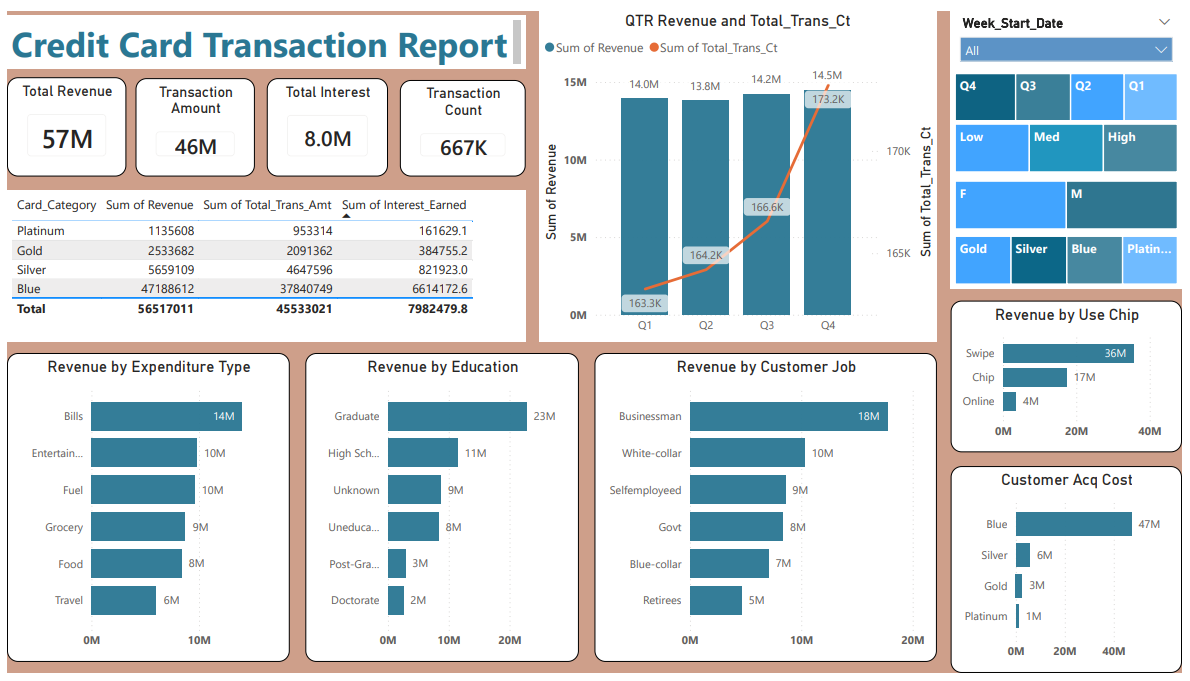

The dashboard page shown, as its layout file describes it:
{"tool":"powerbi","page":{"name":"Credit_Card_Transaction_Report","canvas":[1280,720],"ordinal":0},"visuals":[{"type":"textbox","box":[0,5,565,58.3],"z":0},{"type":"lineStackedColumnComboChart","title":"QTR Revenue and Total_Trans_Ct","fields":{"Category":["ccdb cc_detail.Qtr"],"Y":["Sum(ccdb cc_detail.Revenue)"],"Y2":["Sum(ccdb cc_detail.Total_Trans_Ct)"]},"box":[580,0,433.3,360],"z":1000},{"type":"barChart","title":"Revenue by Expenditure Type","fields":{"Y":["Sum(ccdb cc_detail.Revenue)"],"Category":["ccdb cc_detail.Exp_Type"]},"box":[0,371.7,308.3,336.7],"z":2000},{"type":"barChart","title":"Revenue by Education","fields":{"Y":["Sum(ccdb cc_detail.Revenue)"],"Category":["ccdb cust_detail.Education_Level"]},"box":[325,371.7,298.3,336.7],"z":3000},{"type":"barChart","title":"Revenue by Customer Job","fields":{"Y":["Sum(ccdb cc_detail.Revenue)"],"Category":["ccdb cust_detail.Customer_Job"]},"box":[640,371.7,373.3,336.7],"z":4000},{"type":"barChart","title":"Customer Acq Cost","fields":{"Y":["Sum(ccdb cc_detail.Revenue)"],"Category":["ccdb cc_detail.Card_Category"]},"box":[1028.3,495,251.7,225],"z":5000},{"type":"barChart","title":"Revenue by Use Chip","fields":{"Y":["Sum(ccdb cc_detail.Revenue)"],"Category":["ccdb cc_detail.Use_Chip"]},"box":[1028.3,315,251.7,165],"z":6000},{"type":"tableEx","fields":{"Values":["ccdb cc_detail.Card_Category","Sum(ccdb cc_detail.Revenue)","Sum(ccdb cc_detail.Total_Trans_Amt)","Sum(ccdb cc_detail.Interest_Earned)"]},"box":[0,195,565,165],"z":7000},{"type":"cardVisual","title":"Total Revenue","fields":{"Data":["Sum(ccdb cc_detail.Revenue)"]},"box":[0,71.7,130,108.3],"z":8000},{"type":"cardVisual","title":"Transaction Amount","fields":{"Data":["Sum(ccdb cc_detail.Total_Trans_Amt)"]},"box":[140,73.3,130,106.7],"z":9000},{"type":"cardVisual","title":"Total Interest","fields":{"Data":["Sum(ccdb cc_detail.Interest_Earned)"]},"box":[283.3,73.3,131.7,106.7],"z":10000},{"type":"cardVisual","title":"Transaction Count","fields":{"Data":["Sum(ccdb cc_detail.Total_Trans_Ct)"]},"box":[428.3,75,136.7,105],"z":11000},{"type":"slicer","fields":{"Values":["ccdb cc_detail.Week_Start_Date"]},"box":[1028.3,0,251.7,68.3],"z":12000},{"type":"treemap","fields":{"Group":["ccdb cc_detail.Qtr"],"Values":["Avg(ccdb cc_detail.Client_Num)"]},"box":[1028.3,63.3,251.7,61.7],"z":13000},{"type":"treemap","fields":{"Values":["Avg(ccdb cc_detail.Client_Num)"],"Group":["ccdb cust_detail.Gender"]},"box":[1028.3,180,251.7,61.7],"z":14000},{"type":"treemap","fields":{"Values":["Avg(ccdb cc_detail.Client_Num)"],"Group":["ccdb cust_detail.IncomeGroup"]},"box":[1028.3,118.3,251.7,61.7],"z":15000},{"type":"treemap","fields":{"Group":["ccdb cc_detail.Card_Category"],"Values":["Avg(ccdb cc_detail.Client_Num)"]},"box":[1028.3,240,251.7,61.7],"z":16000}]}

Visuals, with their boxes in screenshot pixels (x1, y1, x2, y2), scaled from the page's 1280x720 canvas onto the 1190x681 screenshot:
textbox: [0,5,525,60]
"QTR Revenue and Total_Trans_Ct" lineStackedColumnComboChart: [539,0,942,340]
"Revenue by Expenditure Type" barChart: [0,352,287,670]
"Revenue by Education" barChart: [302,352,579,670]
"Revenue by Customer Job" barChart: [595,352,942,670]
"Customer Acq Cost" barChart: [956,468,1189,680]
"Revenue by Use Chip" barChart: [956,298,1189,454]
tableEx - ccdb cc_detail.Card_Category x Sum(ccdb cc_detail.Revenue): [0,184,525,340]
"Total Revenue" cardVisual: [0,68,121,170]
"Transaction Amount" cardVisual: [130,69,251,170]
"Total Interest" cardVisual: [263,69,386,170]
"Transaction Count" cardVisual: [398,71,525,170]
slicer - ccdb cc_detail.Week_Start_Date: [956,0,1189,65]
treemap - ccdb cc_detail.Qtr x Avg(ccdb cc_detail.Client_Num): [956,60,1189,118]
treemap - Avg(ccdb cc_detail.Client_Num) x ccdb cust_detail.Gender: [956,170,1189,229]
treemap - Avg(ccdb cc_detail.Client_Num) x ccdb cust_detail.IncomeGroup: [956,112,1189,170]
treemap - ccdb cc_detail.Card_Category x Avg(ccdb cc_detail.Client_Num): [956,227,1189,285]
